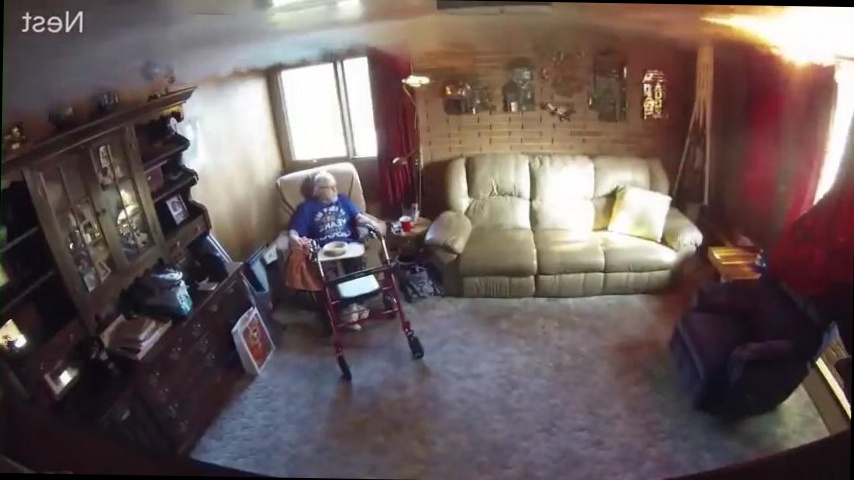fire: (696, 5, 854, 106)
